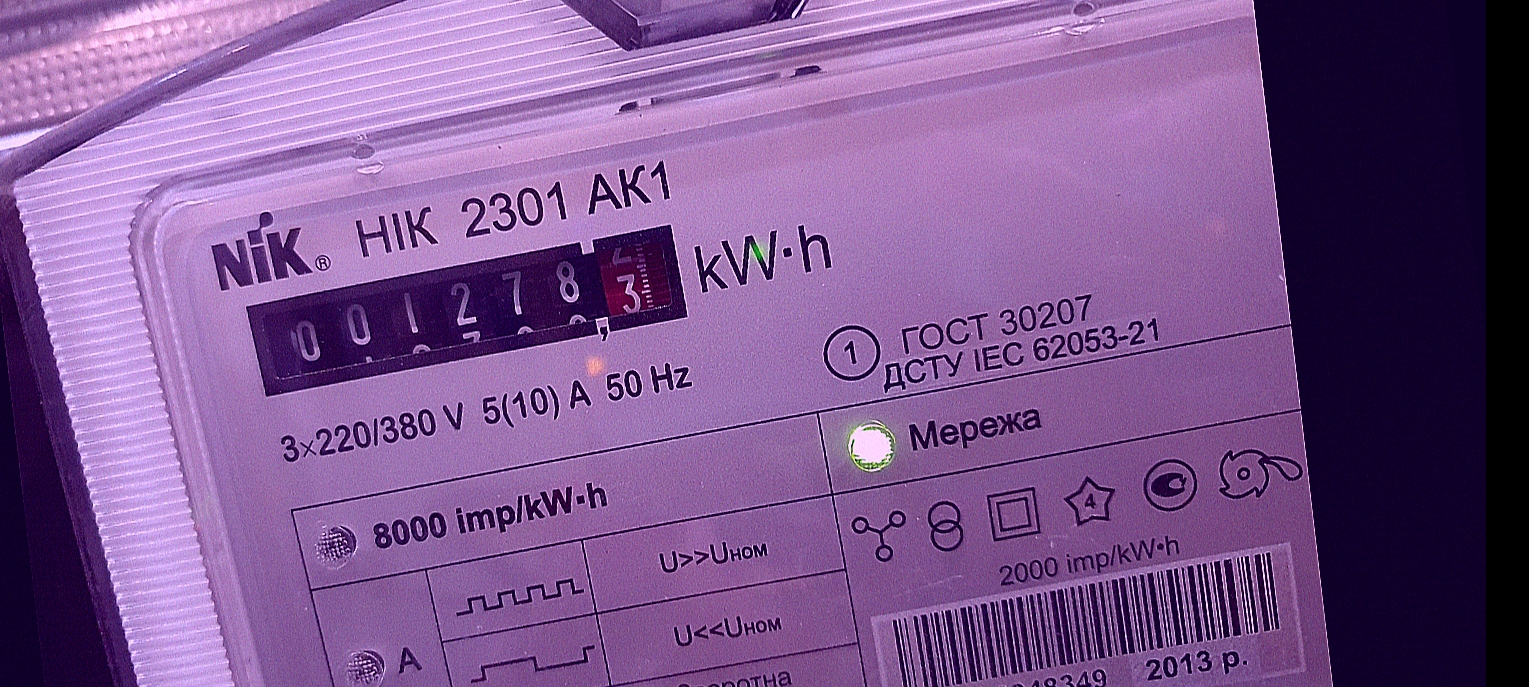0: (290, 315, 322, 365), (339, 300, 371, 350)
1: (396, 288, 420, 336)
2: (445, 280, 476, 329), (605, 244, 631, 266)
3: (610, 271, 642, 317)
7: (496, 269, 524, 318)
8: (551, 259, 580, 305)
screen: (224, 211, 707, 412)
